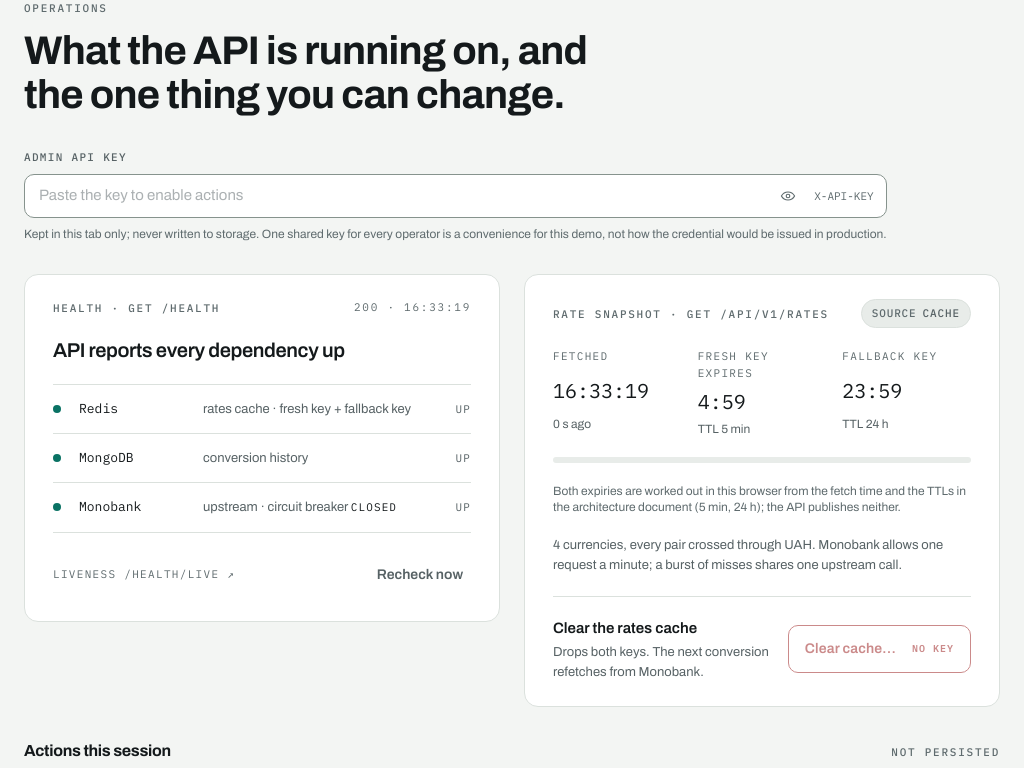
Scenario: OpsPage clear-cache dialog › answers a 204 by saying what it means and logging what was sent
In the password field labelled "Admin API key": x=401, y=196 [39,175,762,217], type "super-secret-admin-key"
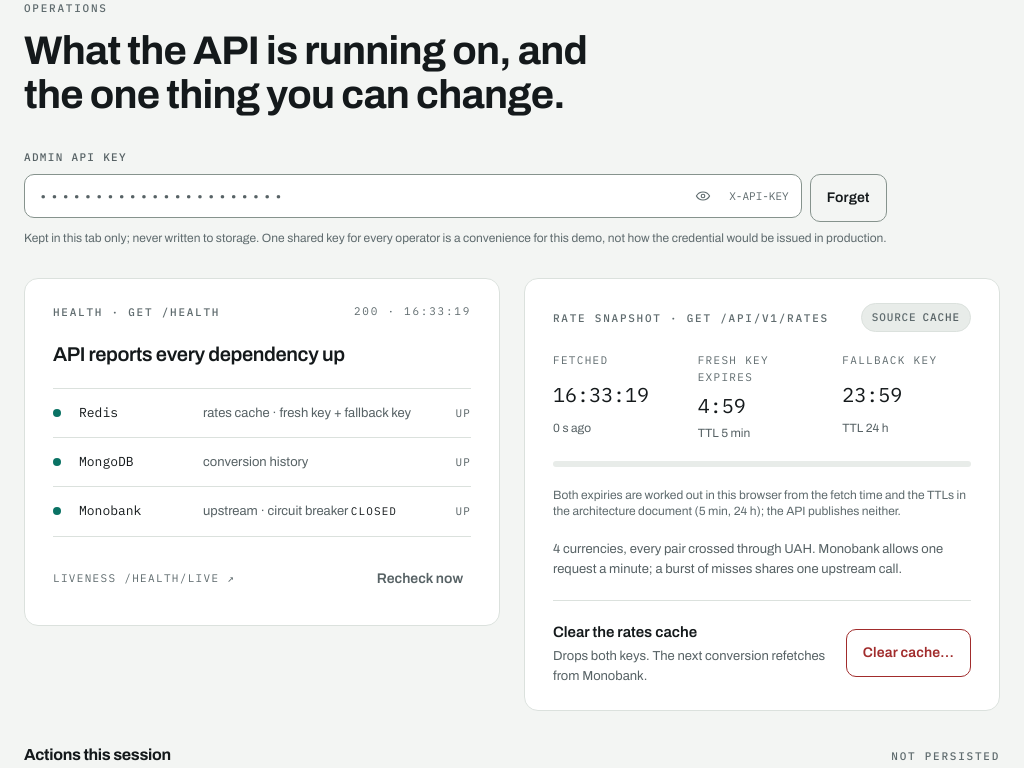
Click the button "Clear cache…": x=908, y=653 [846,629,971,677]
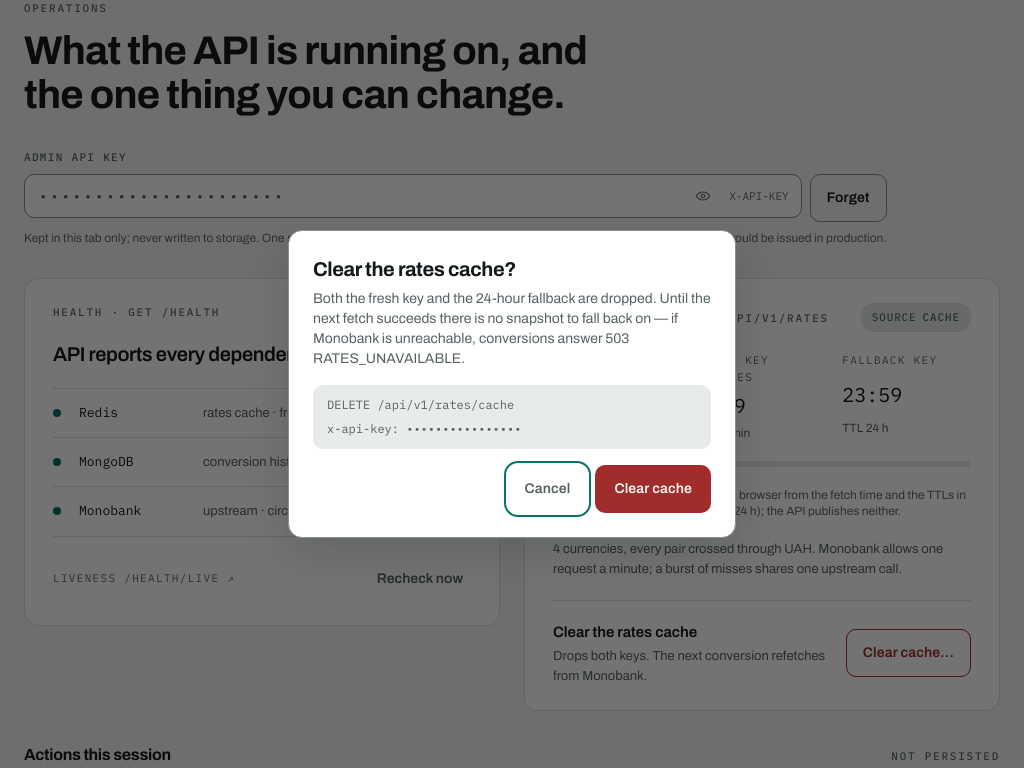
Click the button "Clear cache": x=653, y=489 [596,465,711,513]
(page scrolled)
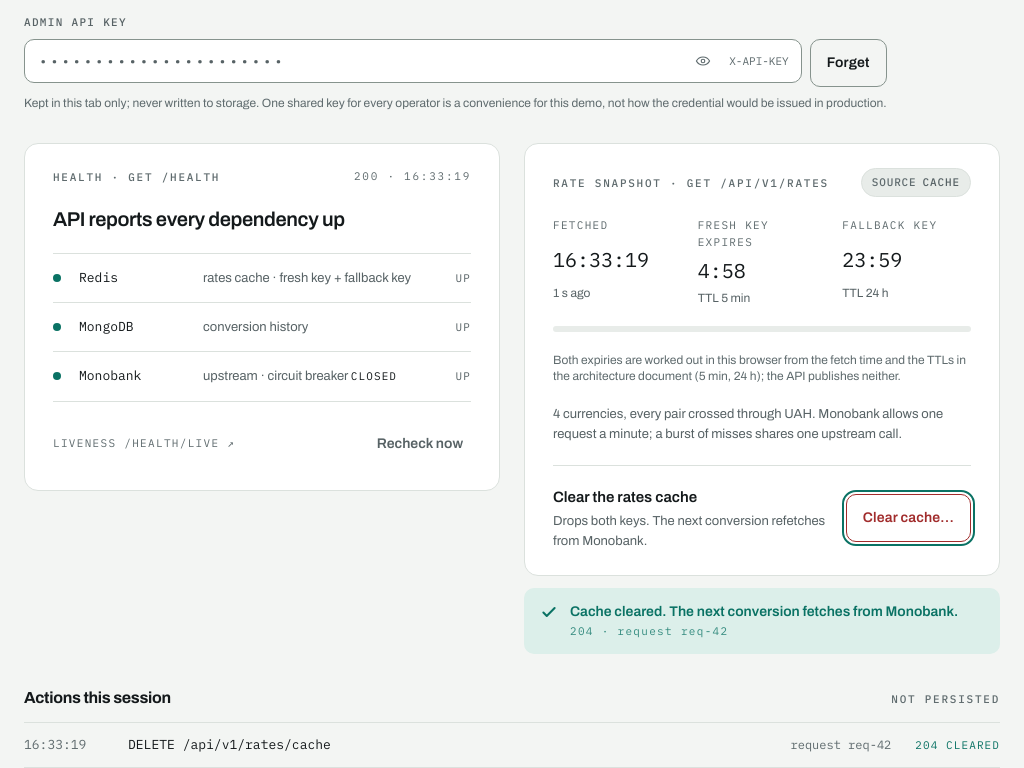
Expected: the text "DELETE /api/v1/rates/cache" is shown, [128,736,331,753]
Expected: the text "Cache cleared. The next conversion fetches from Monobank." is shown, [570,602,958,622]
Expected: the text "204 · request req-42" is shown, [570,624,728,638]
